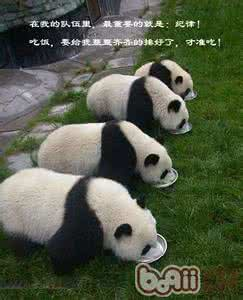panda: (1, 168, 166, 279), (36, 120, 180, 187), (83, 72, 189, 131), (133, 60, 195, 100)
